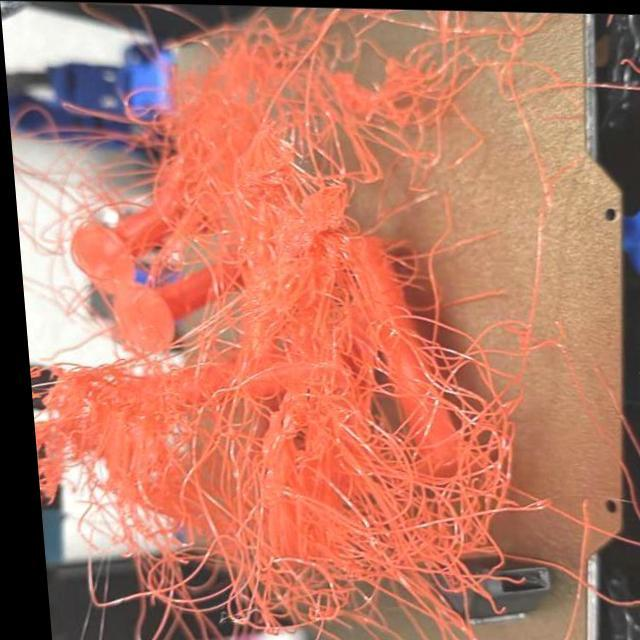spaghetti: (124, 374, 489, 640), (293, 9, 565, 132), (175, 90, 333, 251), (415, 347, 527, 534), (207, 246, 358, 363), (25, 378, 128, 498), (14, 156, 95, 263)
